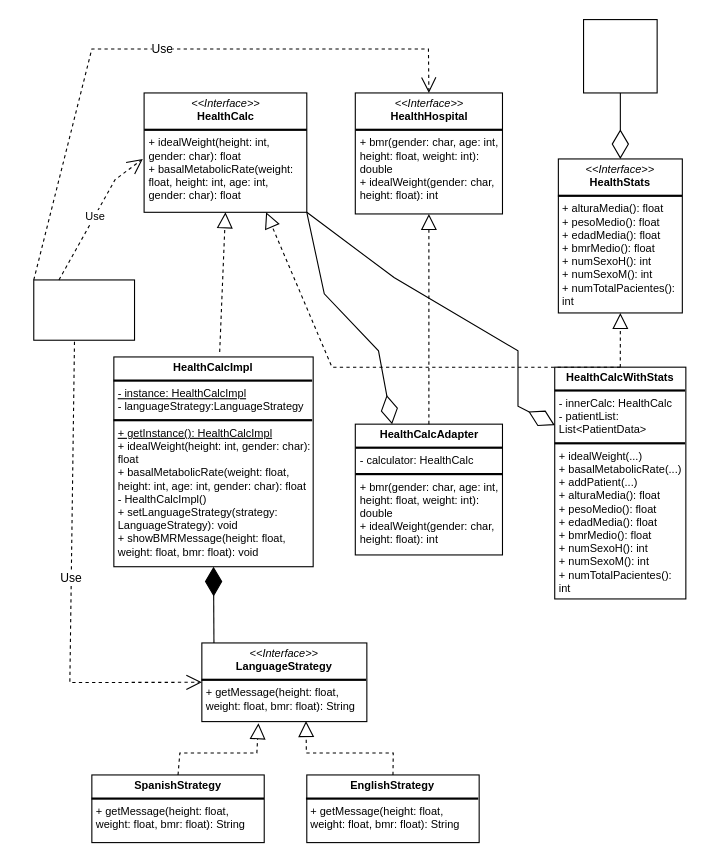
Image size: 705x862. Some labels were removed from this diagram. The shapes that lost their labels are listed below. From the top down, each one's box as (x1, y1, x2, y2) in pixels, then its label:
(582, 18, 657, 93): PatientData - altura: int - peso: float - edad: int - genero: char - bmr: float
(33, 279, 135, 340): Main + main(args: String[]): void
